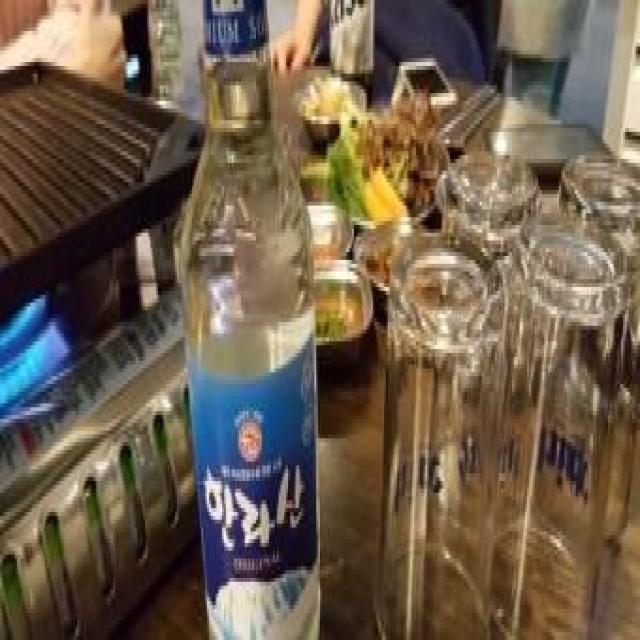soju-bottle: (177, 4, 322, 640), (328, 3, 378, 116)
